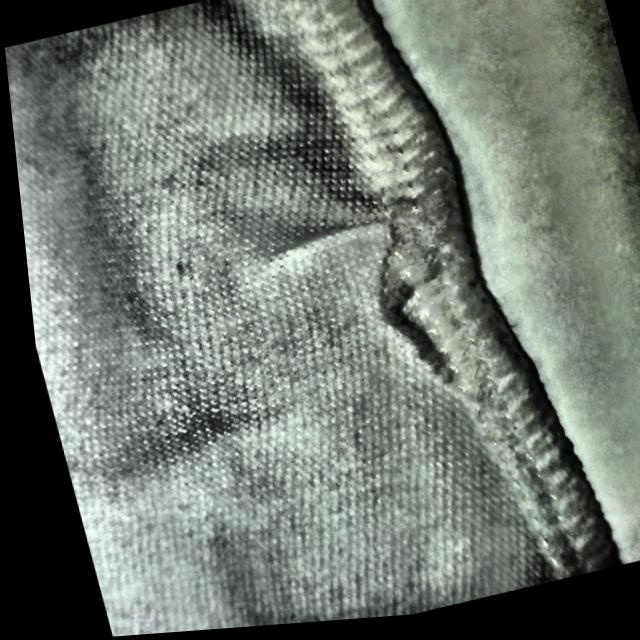seam: (252, 143, 519, 420)
